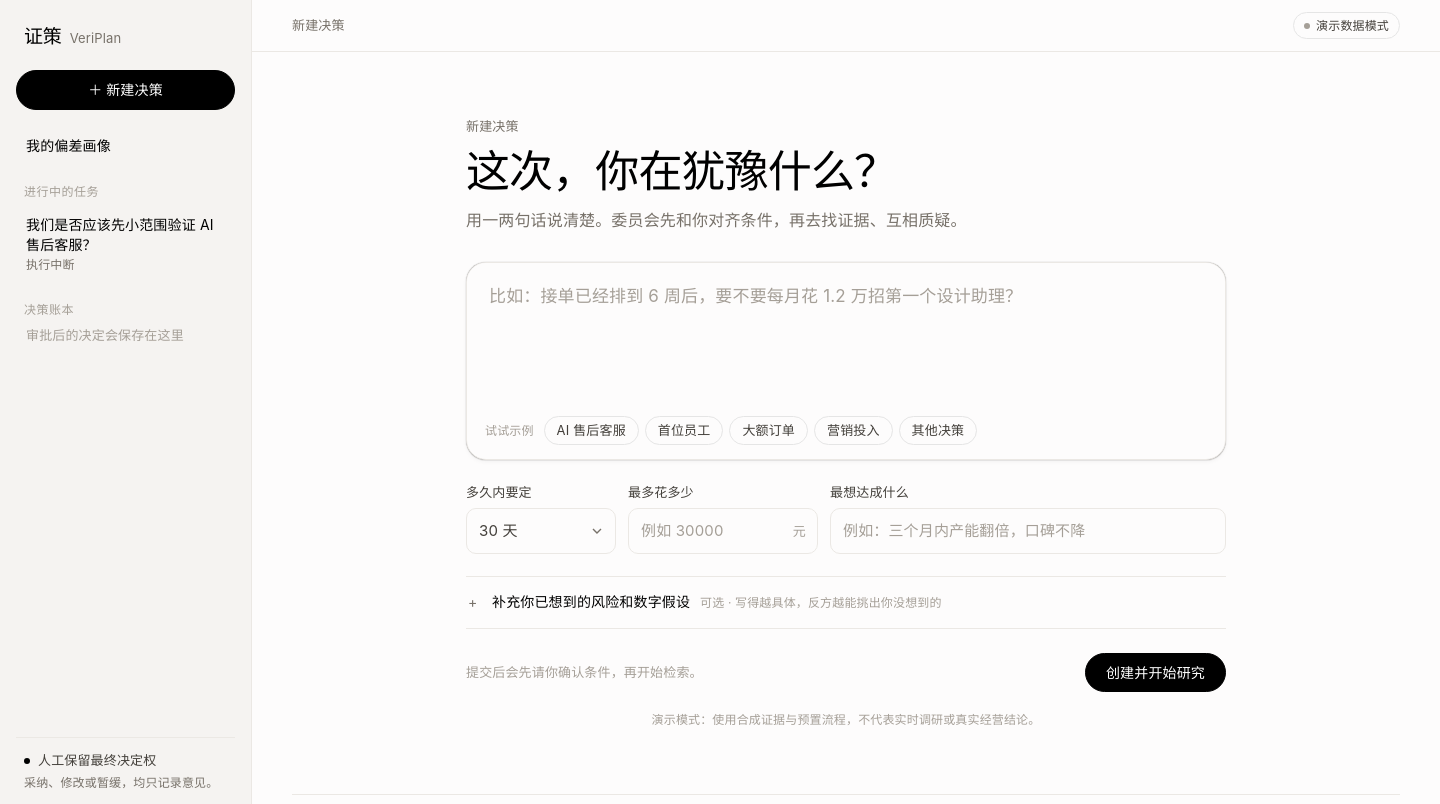
Test: decision workspace › shows request errors and lets the user resume a failed run
Click the button "我们是否应该先小范围验证 AI 售后客服？ 执行中断". click: coordinates (126, 244)
box: 16,207 -> 235,282
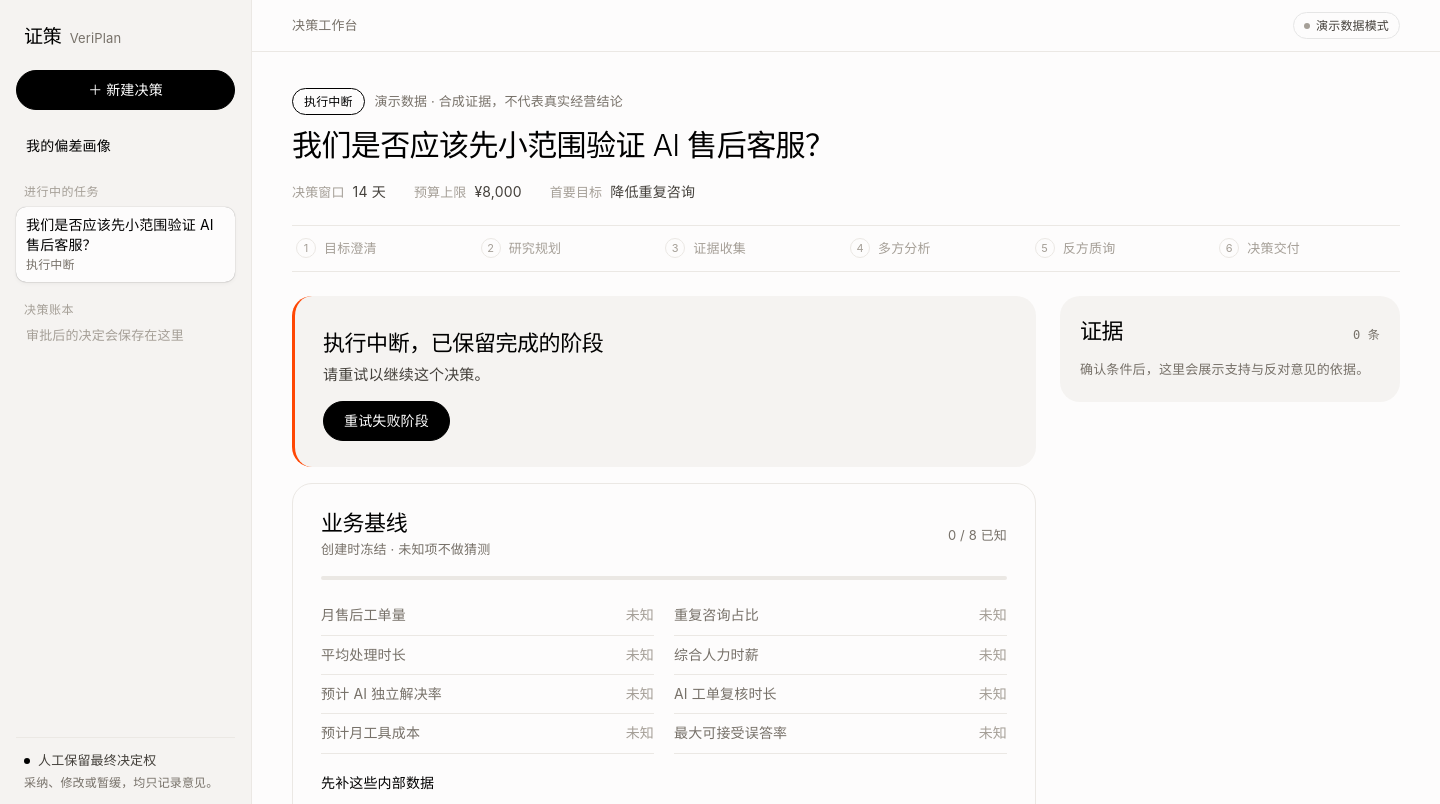
Click the button "重试失败阶段". click: coordinates (386, 421)
box: 323,401 -> 450,441
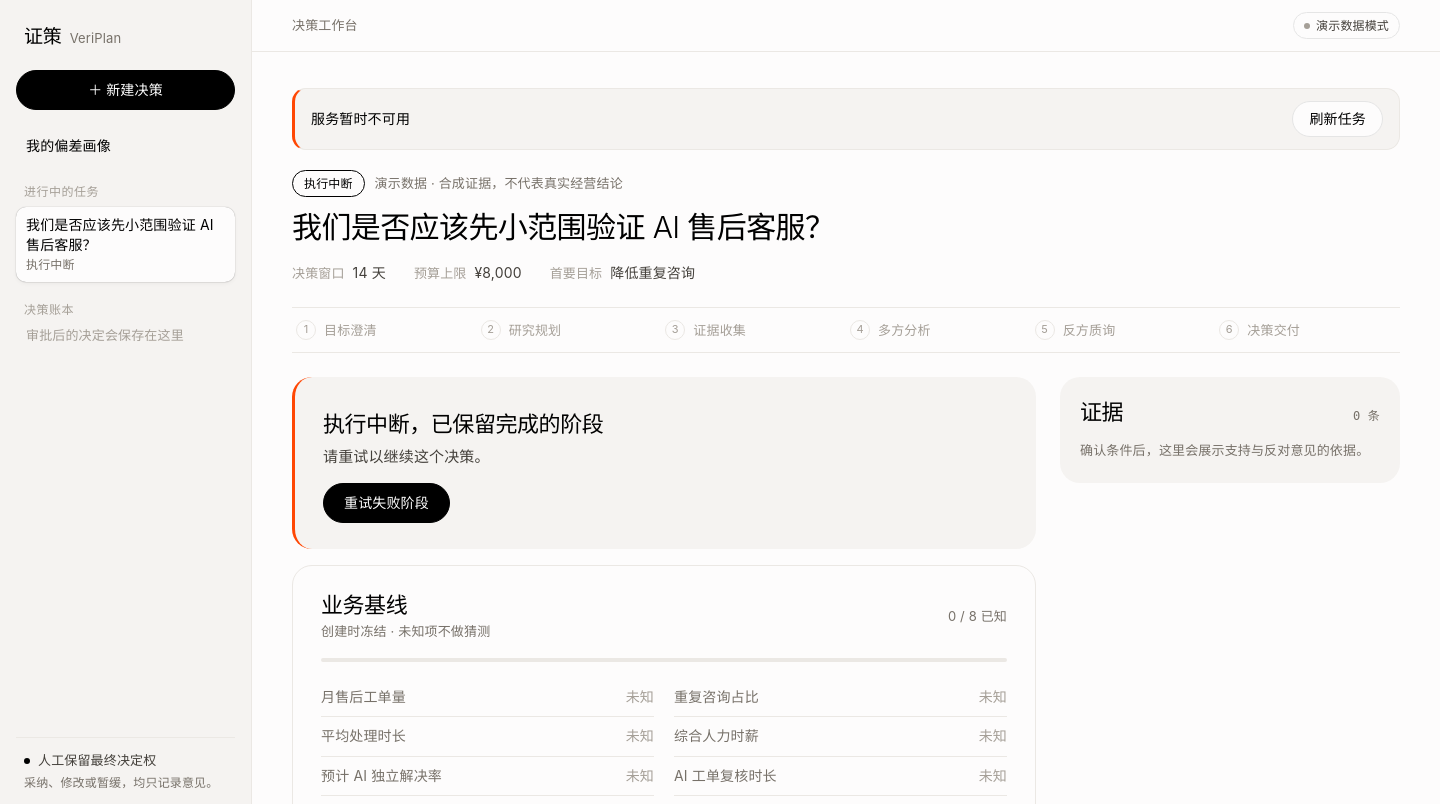
expect the message "服务暂时不可用 刷新任务" is shown: met, box 292,88 -> 1400,150
Click the button "重试失败阶段". click: coordinates (386, 503)
box: 323,483 -> 450,523
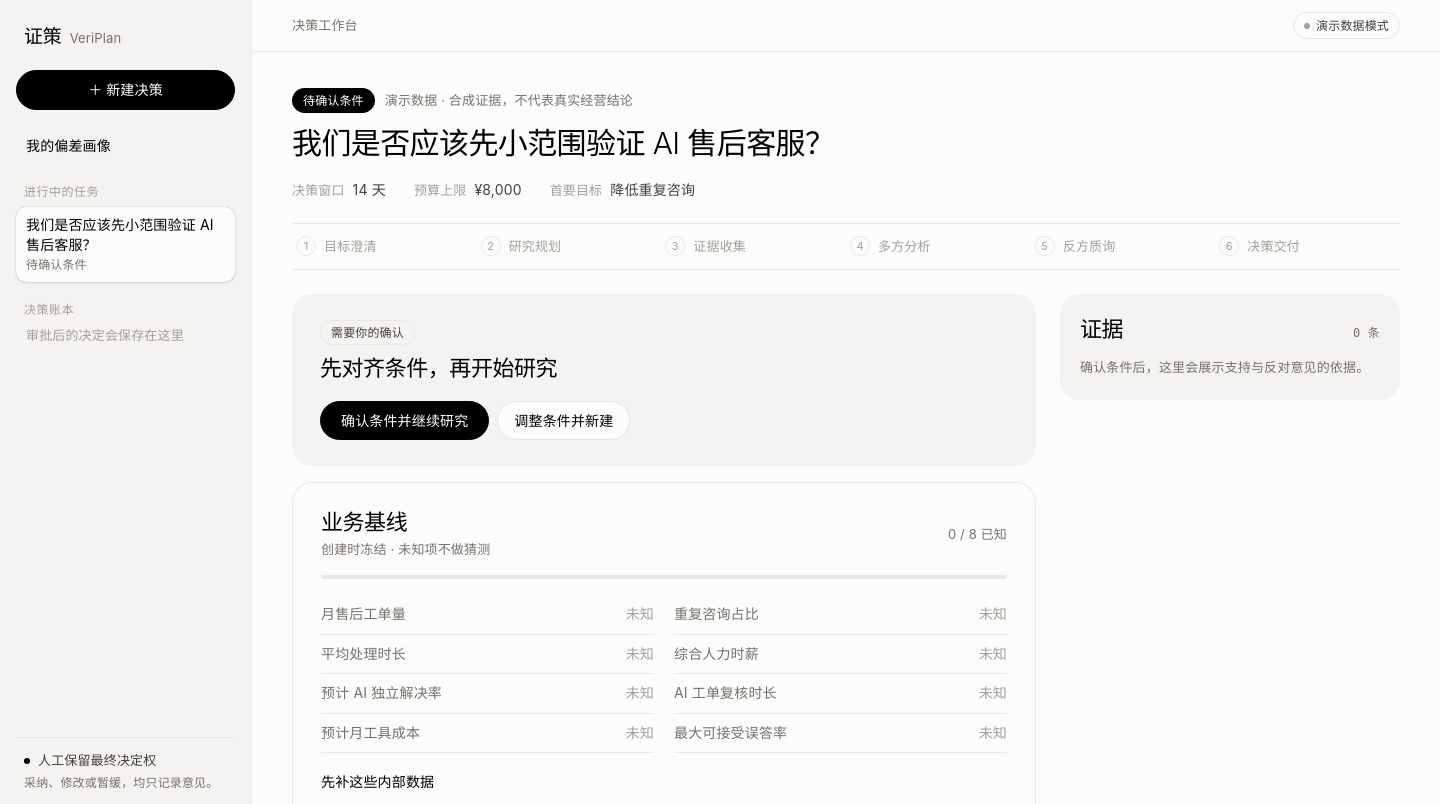
expect the button "确认条件并继续研究" is shown: met, box 320,401 -> 489,440
